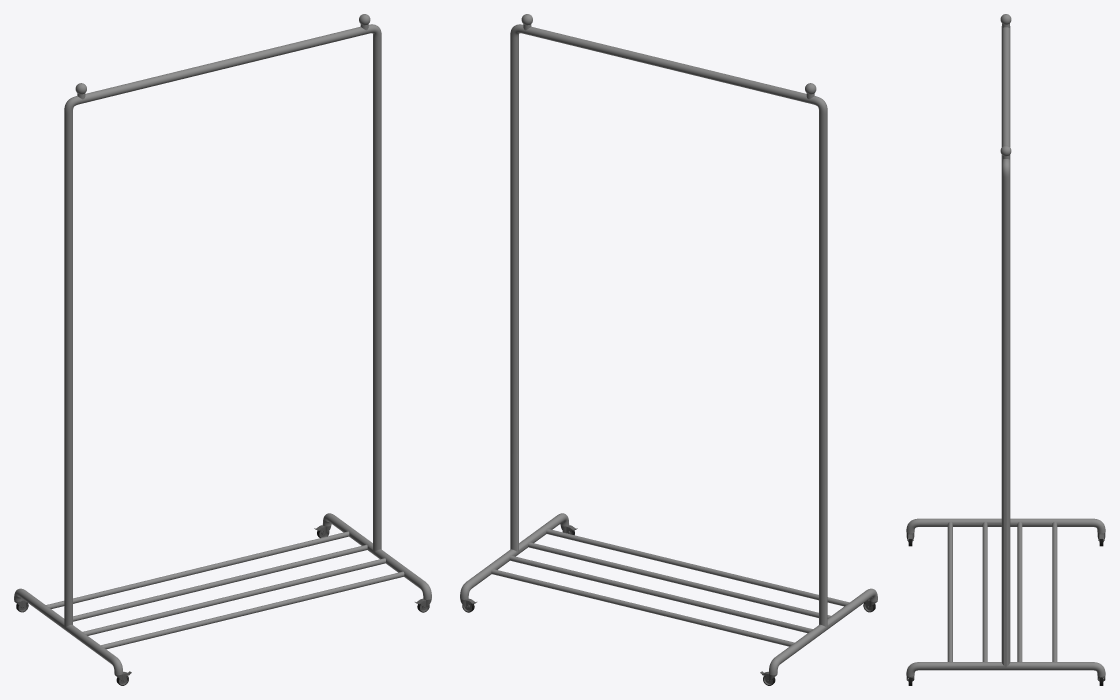
The model's file is 3_hang.glb.
3 renders of one model, left to right at view 1: azimuth 30°, elevation 25°; view 2: azimuth 150°, elevation 25°; view 3: azimuth 270°, elevation 25°, orthographic. The views are drawn at different scales.
Parts seen in each view (by area): view 1: Clothes rack with wheels; view 2: Clothes rack with wheels; view 3: Clothes rack with wheels.
Boxes of the visible parts, x1=… form: Clothes rack with wheels: x1=14, y1=14, x2=431, y2=685; Clothes rack with wheels: x1=460, y1=14, x2=877, y2=685; Clothes rack with wheels: x1=906, y1=14, x2=1105, y2=685.
Size of the model in its own units: 0.9988 by 1.7 by 0.573.
3 materials, 1 textured.
